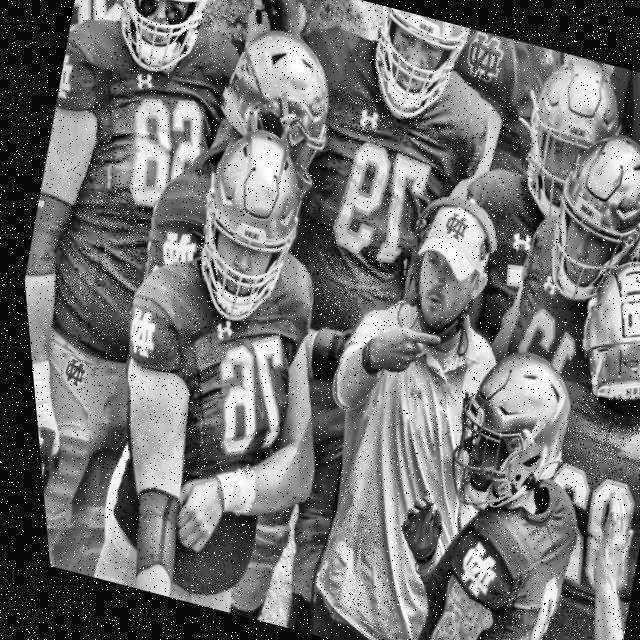Helmet: (162, 113, 331, 339), (418, 332, 588, 538), (185, 10, 358, 207), (371, 180, 517, 370), (497, 48, 640, 236), (520, 117, 640, 322), (346, 3, 479, 136), (551, 249, 640, 419), (96, 0, 231, 90)
